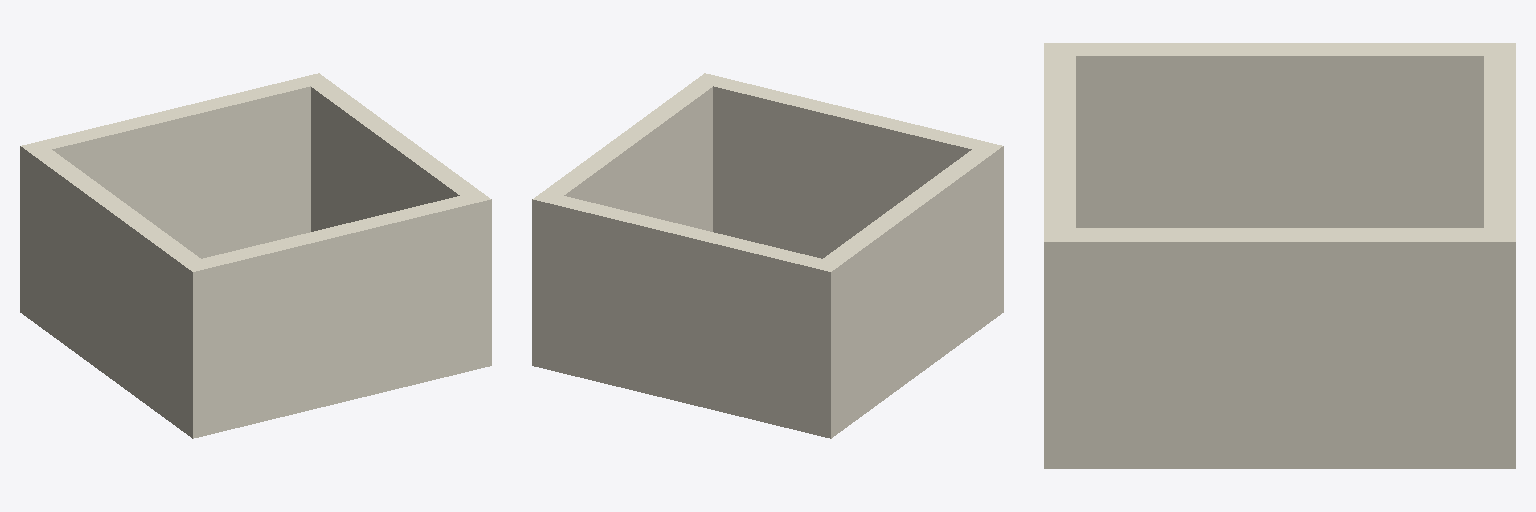
robot.urdf — bin:
<?xml version="1.0" ?>
<!-- The container: an open-topped box, 0.30 m square outside, 3.0 kg.      -->
<!-- Floor 0.02 m thick; four walls 0.02 m thick rising to z = 0.16, which  -->
<!-- is the RIM. Inner opening 0.26 x 0.26 m. Units: metres, kilograms.     -->
<!-- Its own frame sits at the centre of the OUTSIDE of the floor, so the   -->
<!-- whole container occupies z in [0, 0.16] when the frame is on a floor.  -->
<robot name="bin">
  <link name="bin">
    <visual>
      <origin rpy="0 0 0" xyz="0 0 0.01"/>
      <geometry><box size="0.30 0.30 0.02"/></geometry>
      <material name="cream"><color rgba="0.93 0.91 0.85 1"/></material>
    </visual>
    <collision>
      <origin rpy="0 0 0" xyz="0 0 0.01"/>
      <geometry><box size="0.30 0.30 0.02"/></geometry>
    </collision>
    <inertial>
      <origin rpy="0 0 0" xyz="0 0 0.01"/>
      <mass value="1.0"/>
      <inertia ixx="0.00754" ixy="0" ixz="0" iyy="0.00754" iyz="0"
               izz="0.01500"/>
    </inertial>
  </link>

  <link name="bin_wall_x_pos">
    <visual>
      <geometry><box size="0.02 0.30 0.14"/></geometry>
      <material name="cream"/>
    </visual>
    <collision>
      <geometry><box size="0.02 0.30 0.14"/></geometry>
    </collision>
    <inertial>
      <mass value="0.5"/>
      <inertia ixx="0.004567" ixy="0" ixz="0" iyy="0.000833" iyz="0"
               izz="0.003767"/>
    </inertial>
  </link>
  <joint name="bin_to_wall_x_pos" type="fixed">
    <origin rpy="0 0 0" xyz="0.14 0 0.09"/>
    <parent link="bin"/>
    <child link="bin_wall_x_pos"/>
  </joint>

  <link name="bin_wall_x_neg">
    <visual>
      <geometry><box size="0.02 0.30 0.14"/></geometry>
      <material name="cream"/>
    </visual>
    <collision>
      <geometry><box size="0.02 0.30 0.14"/></geometry>
    </collision>
    <inertial>
      <mass value="0.5"/>
      <inertia ixx="0.004567" ixy="0" ixz="0" iyy="0.000833" iyz="0"
               izz="0.003767"/>
    </inertial>
  </link>
  <joint name="bin_to_wall_x_neg" type="fixed">
    <origin rpy="0 0 0" xyz="-0.14 0 0.09"/>
    <parent link="bin"/>
    <child link="bin_wall_x_neg"/>
  </joint>

  <link name="bin_wall_y_pos">
    <visual>
      <geometry><box size="0.26 0.02 0.14"/></geometry>
      <material name="cream"/>
    </visual>
    <collision>
      <geometry><box size="0.26 0.02 0.14"/></geometry>
    </collision>
    <inertial>
      <mass value="0.5"/>
      <inertia ixx="0.000833" ixy="0" ixz="0" iyy="0.003634" iyz="0"
               izz="0.002834"/>
    </inertial>
  </link>
  <joint name="bin_to_wall_y_pos" type="fixed">
    <origin rpy="0 0 0" xyz="0 0.14 0.09"/>
    <parent link="bin"/>
    <child link="bin_wall_y_pos"/>
  </joint>

  <link name="bin_wall_y_neg">
    <visual>
      <geometry><box size="0.26 0.02 0.14"/></geometry>
      <material name="cream"/>
    </visual>
    <collision>
      <geometry><box size="0.26 0.02 0.14"/></geometry>
    </collision>
    <inertial>
      <mass value="0.5"/>
      <inertia ixx="0.000833" ixy="0" ixz="0" iyy="0.003634" iyz="0"
               izz="0.002834"/>
    </inertial>
  </link>
  <joint name="bin_to_wall_y_neg" type="fixed">
    <origin rpy="0 0 0" xyz="0 -0.14 0.09"/>
    <parent link="bin"/>
    <child link="bin_wall_y_neg"/>
  </joint>
</robot>

--- Render facts (derived) ---
3 views of the same robot in one strip: view 1: azimuth 30°, elevation 25°; view 2: azimuth 150°, elevation 25°; view 3: azimuth 270°, elevation 25° (orthographic).
Model bin with 5 links and 4 joints (4 fixed), rooted at bin, posed all joints at 0.
Visible links, largest first — view 1: bin_wall_y_neg, bin_wall_x_neg, bin_wall_y_pos, bin_wall_x_pos, bin; view 2: bin_wall_y_pos, bin_wall_x_neg, bin_wall_y_neg, bin_wall_x_pos, bin; view 3: bin_wall_x_pos, bin_wall_x_neg, bin, bin_wall_y_pos, bin_wall_y_neg.
Boxes of the visible links, <box> form: bin_wall_y_neg: <box>202,196,471,412</box>; bin_wall_x_neg: <box>20,141,212,417</box>; bin_wall_y_pos: <box>41,78,310,258</box>; bin_wall_x_pos: <box>300,73,491,349</box>; bin: <box>20,292,491,438</box>; bin_wall_y_pos: <box>552,196,821,412</box>; bin_wall_x_neg: <box>811,141,1003,417</box>; bin_wall_y_neg: <box>713,78,982,258</box>; bin_wall_x_pos: <box>532,73,723,349</box>; bin: <box>532,292,1003,438</box>; bin_wall_x_pos: <box>1044,228,1515,440</box>; bin_wall_x_neg: <box>1044,43,1515,227</box>; bin: <box>1044,441,1515,468</box>; bin_wall_y_pos: <box>1484,56,1515,227</box>; bin_wall_y_neg: <box>1044,56,1075,227</box>.
Size in the robot's own frame: 0.3 by 0.3 by 0.16 metres.
Geometry: primitives only (box / cylinder / sphere), no mesh files.
